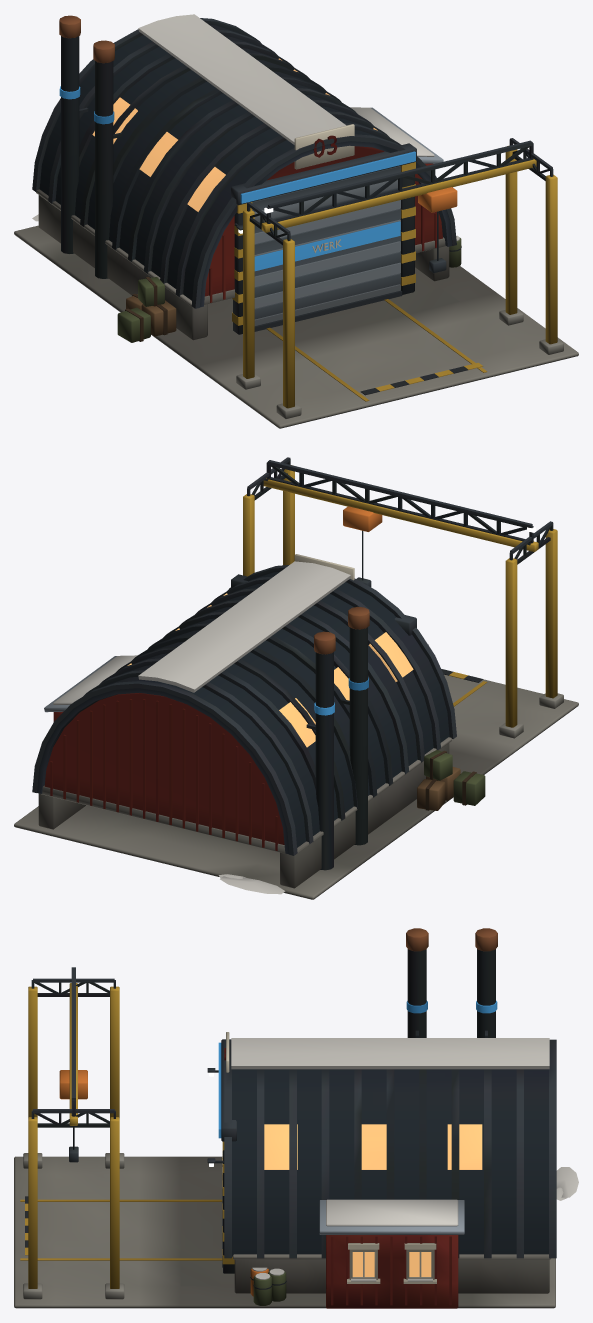
The model's file is factory.glb.
The picture shows the model from 3 angles, top to bottom: view 1: azimuth 30°, elevation 25°; view 2: azimuth 150°, elevation 25°; view 3: azimuth 270°, elevation 25°; orthographic projection.
Visible parts, largest first — view 1: factory_root_matte, factory_root_metal, factory_door_metal, factory_root_trim, factory_door_trim, factory_root_glass; view 2: factory_root_matte, factory_root_metal, factory_root_glass; view 3: factory_root_matte, factory_root_metal, factory_root_glass, factory_root_trim.
Part boxes in pixels (bbox=[...]): factory_root_matte: bbox=[14, 14, 578, 428]; factory_root_metal: bbox=[32, 15, 553, 334]; factory_door_metal: bbox=[252, 166, 402, 331]; factory_root_trim: bbox=[59, 86, 415, 203]; factory_door_trim: bbox=[254, 221, 400, 271]; factory_root_glass: bbox=[92, 58, 377, 211]; factory_root_matte: bbox=[14, 465, 578, 899]; factory_root_metal: bbox=[32, 457, 553, 870]; factory_root_glass: bbox=[127, 593, 413, 747]; factory_root_matte: bbox=[14, 983, 578, 1308]; factory_root_metal: bbox=[31, 928, 556, 1273]; factory_root_glass: bbox=[264, 1124, 482, 1276]; factory_root_trim: bbox=[218, 1000, 497, 1138].
Size of the model in its own units: 12.83 by 8.35 by 17.93.
